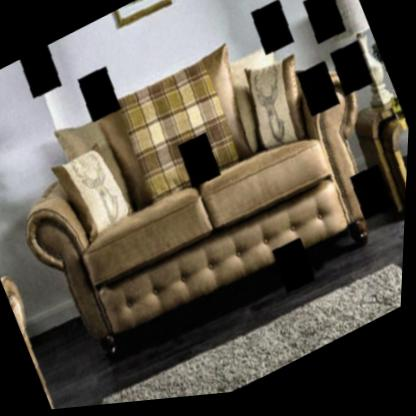Sofa: (12, 13, 388, 361)
